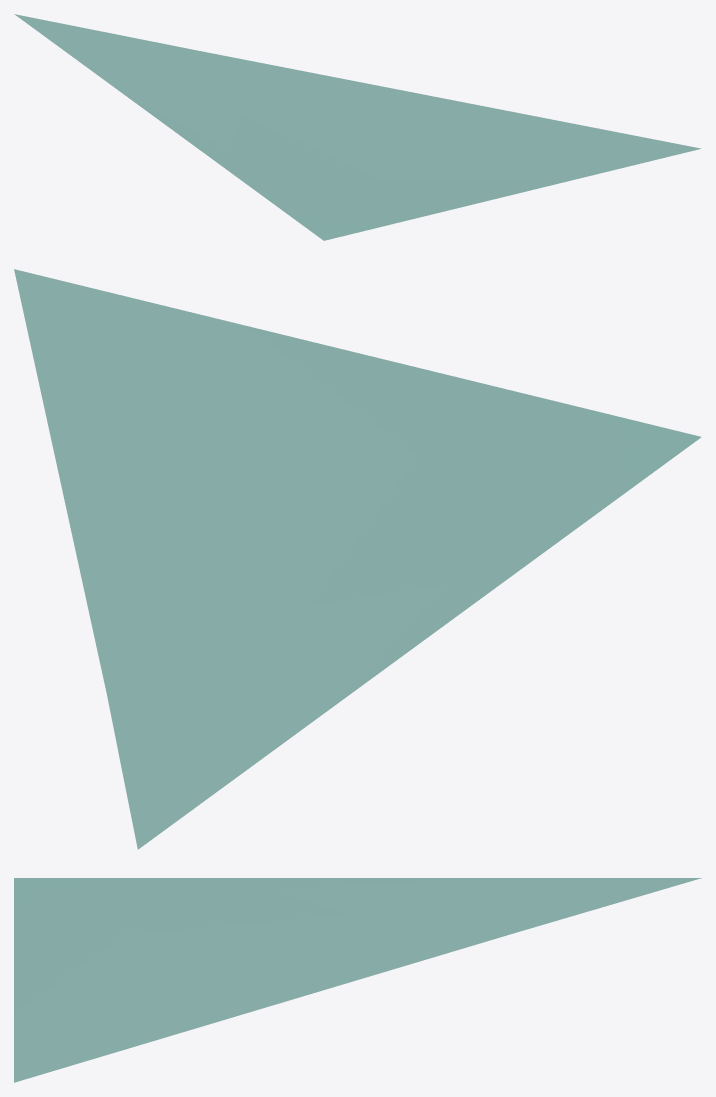
The model's file is water-14-4.glb.
The picture shows the model from 3 angles, top to bottom: view 1: azimuth 30°, elevation 25°; view 2: azimuth 150°, elevation 25°; view 3: azimuth 270°, elevation 25°; orthographic projection. The views are drawn at different scales.
Bounding box in the file's own units: 1.19 × 0 × 1.69.
